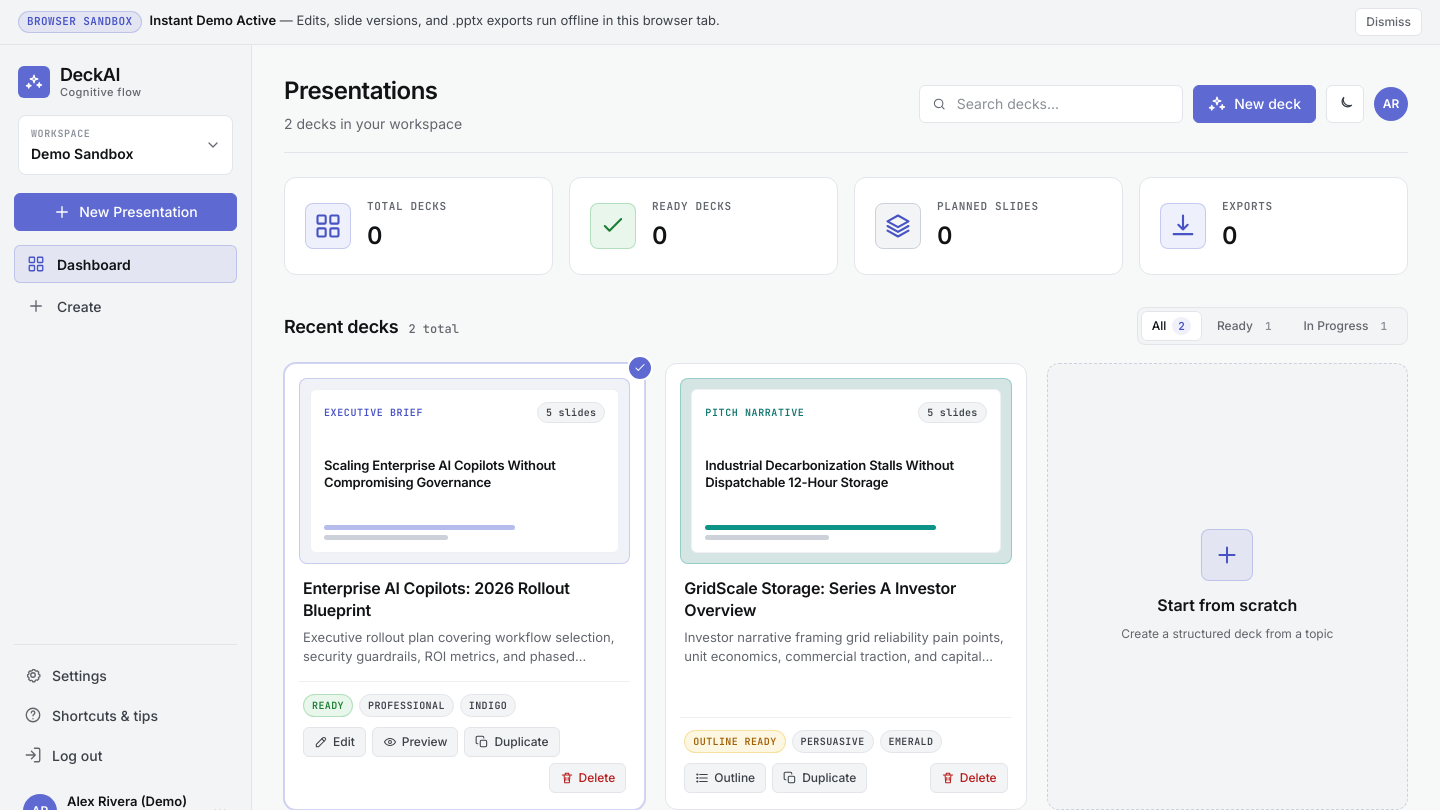
Test: Phase 4 Studio Power-Tools, Deck Themes & Dashboard Duplication › duplicates a deck directly from DashboardPage DeckCard quick actions
Expected: the heading "Enterprise AI Copilots: 2026 Rollout Blueprint" is shown, x1=303 y1=578 x2=570 y2=620
Click the button with aria-label "Duplicate Enterprise AI Copilots: 2026 Rollout Blueprint" at (512, 742), box x1=464 y1=726 x2=560 y2=756
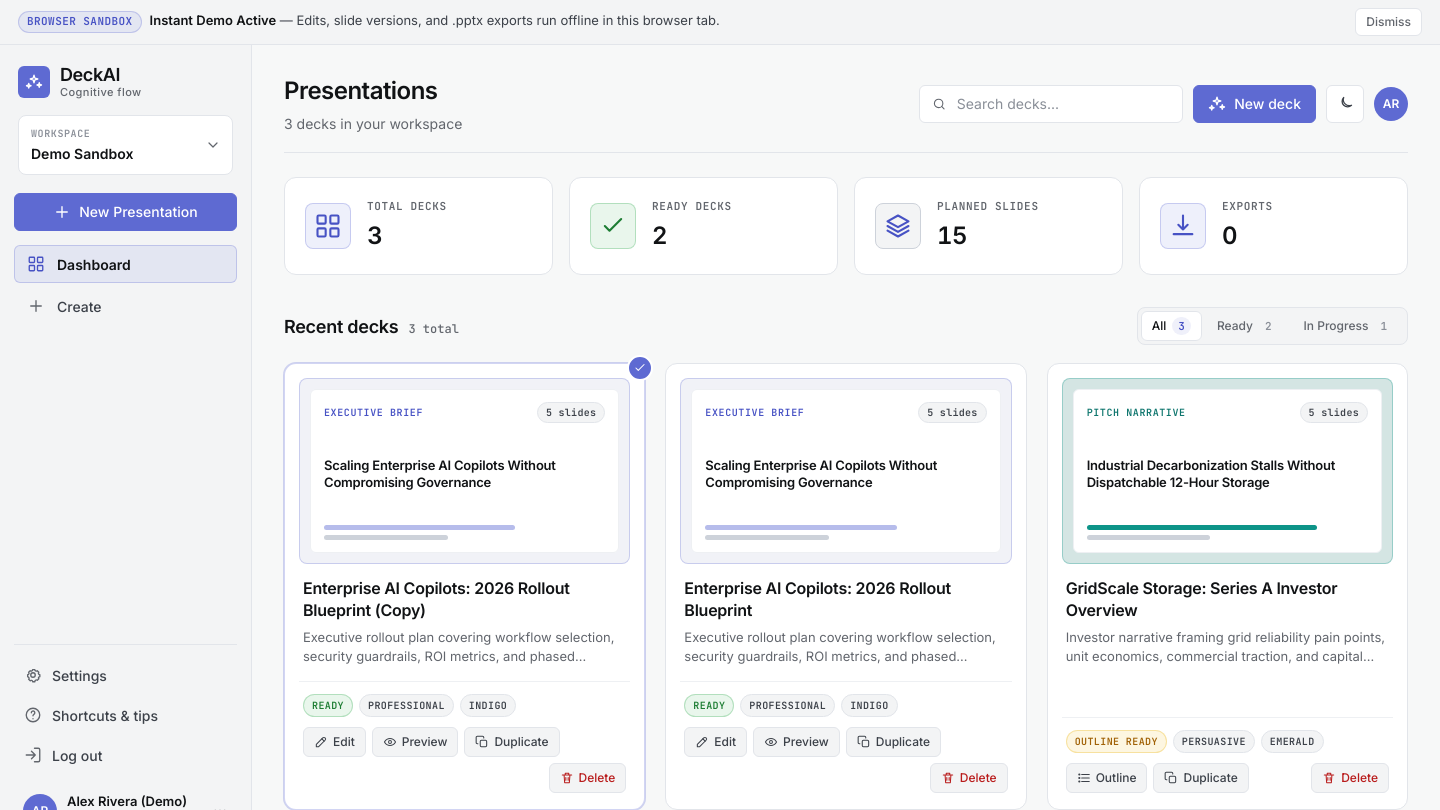
Expected: the heading "Enterprise AI Copilots: 2026 Rollout Blueprint (Copy)" is shown, x1=303 y1=578 x2=570 y2=620
